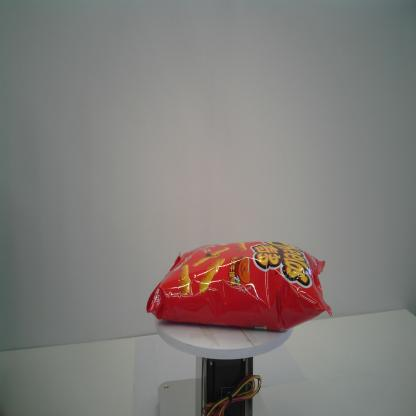Puffed Food: (144, 237, 334, 333)
